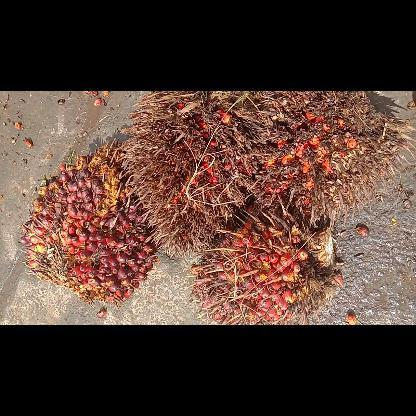TBS masak: (17, 138, 160, 310), (185, 198, 343, 324)
Terlalu masak: (116, 91, 266, 257), (245, 91, 415, 229)
